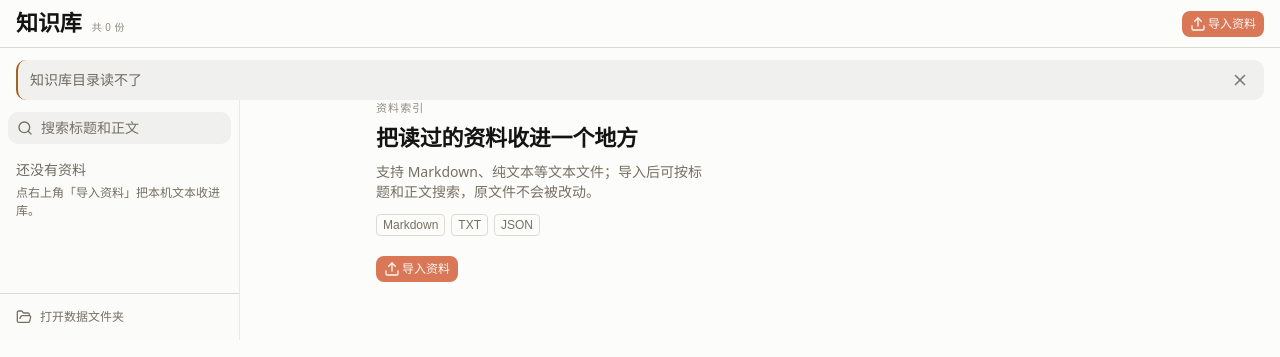
Scenario: 知识库：重命名 / 删除 / 错误 › 读列表失败：给错误条（人话）并可关闭
The image size is (1280, 357).
Expected: the message with test id "knowledge-error" reads "知识库目录读不了", 30,70 -> 142,89
What coordinates should you click on to do the following:
click the button with test id "knowledge-error-dismiss"
I would click on:
 (1240, 80)
Its box is 1228,68 -> 1252,92.
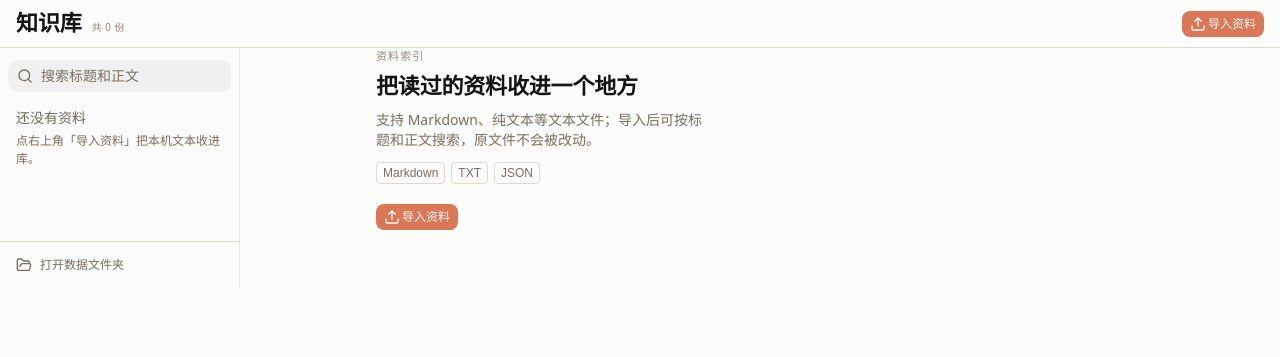
Result: the message with test id "knowledge-error" is gone
